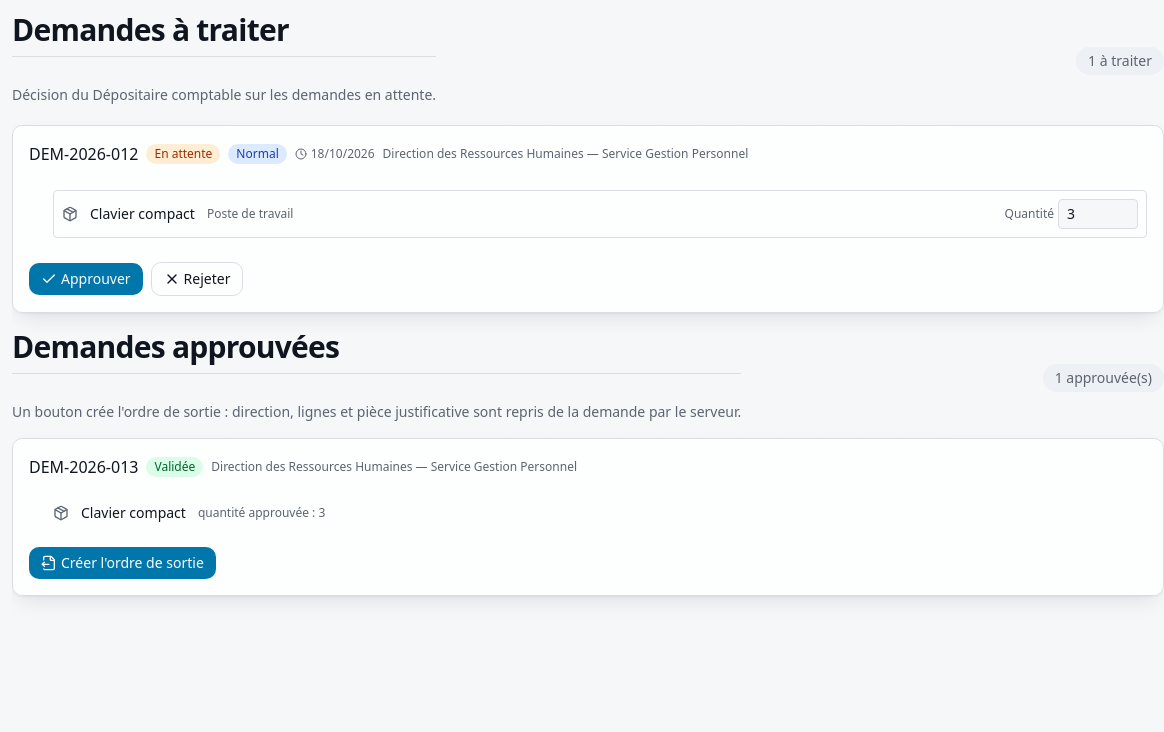
Test: DecisionRequests — décision du Dépositaire sur les demandes en base › affiche le REFUS du serveur (jamais une fausse réussite)
This screenshot has width=1164, height=732.
Expected: the text "DEM-2026-012" is shown, [29,142,138,166]
Click the button "Approuver": x=86, y=279 [29,263,143,295]
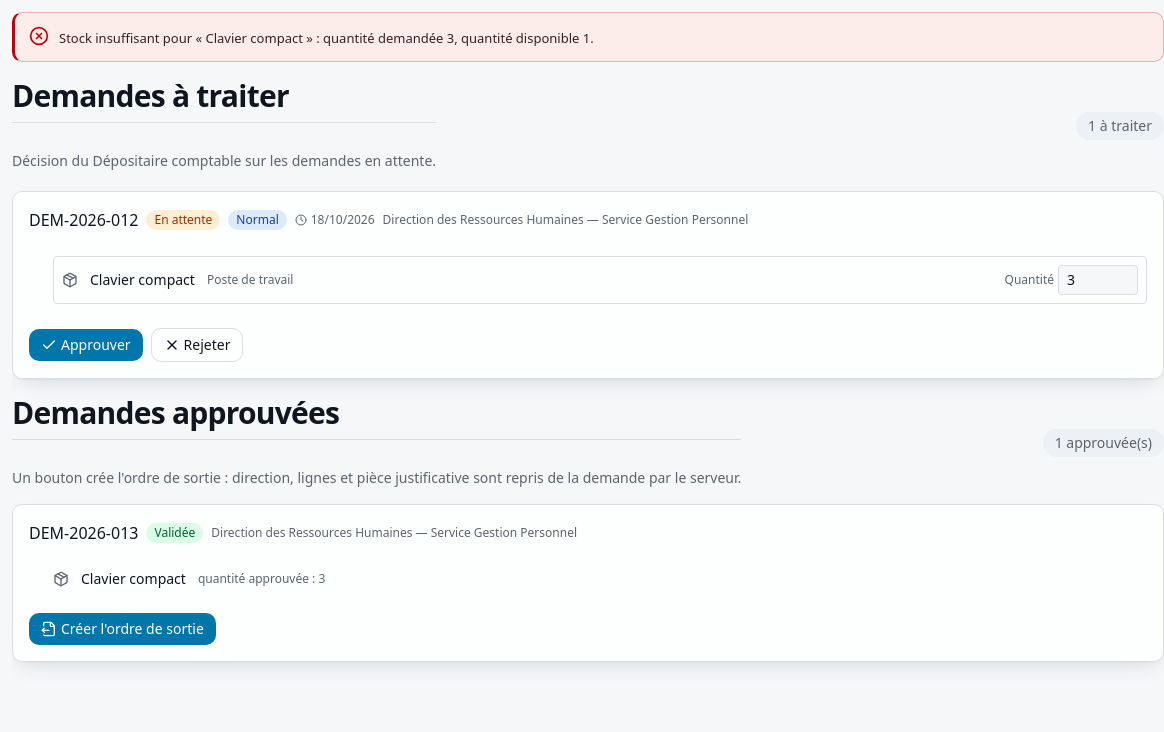
Expected: the text "Stock insuffisant pour" is shown, [59,29,594,47]
